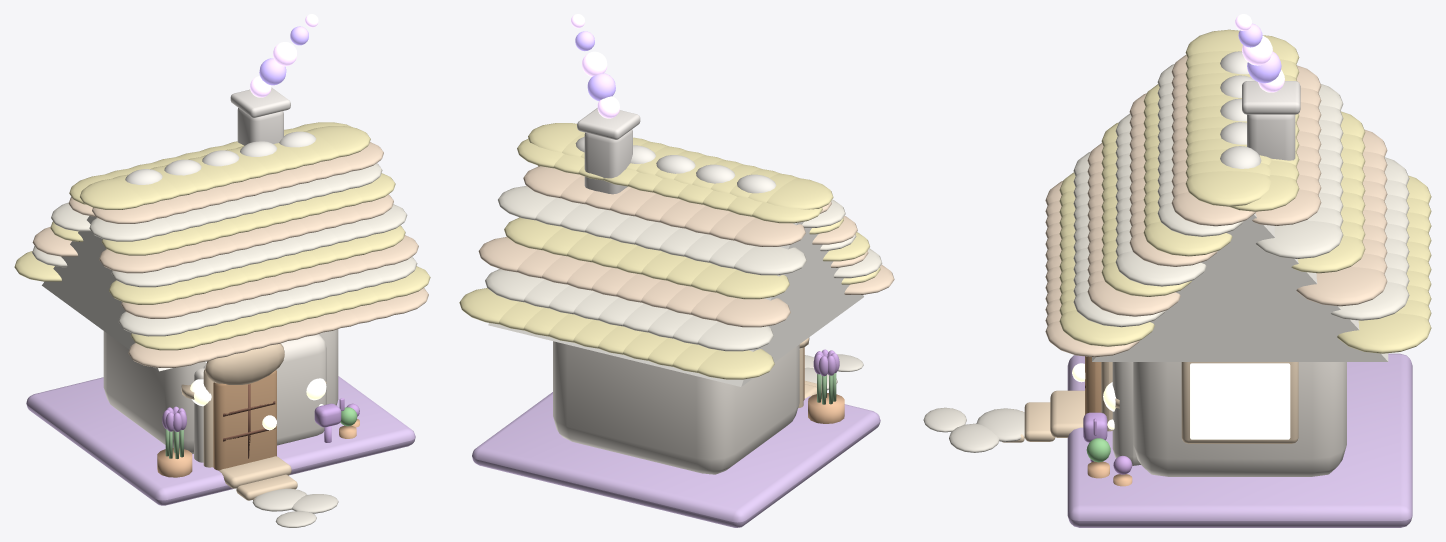
Rendered from cozy_house_small_A.glb.
3 views of the same model, side by side, from view 1: azimuth 30°, elevation 25°; view 2: azimuth 150°, elevation 25°; view 3: azimuth 270°, elevation 25° (orthographic). The views are drawn at different scales.
Visible parts, largest first — view 1: Base, Body, Door, RoofSolid, Front, DArch, FF10_0, Chim, S1, FF0_0, FF2_0, FF10_12 (+36 smaller); view 2: Body, Base, RoofSolid, Chim, BB0_0, BB2_0, BB4_0, BB1_0, BB3_0, BB5_0, FF10_0, BB0_9 (+66 smaller); view 3: Base, RoofSolid, Body, SG, BB0_9, BB2_9, FF10_12, BB4_9, SFr, Chim, Front, FF1_12 (+26 smaller).
Boxes of the visible parts, <box> form: Base: <box>26,376,415,505</box>; Body: <box>103,329,338,454</box>; Door: <box>213,370,276,470</box>; RoofSolid: <box>42,216,172,371</box>; Front: <box>203,334,326,445</box>; DArch: <box>205,343,284,384</box>; FF10_0: <box>80,178,143,209</box>; Chim: <box>237,108,283,145</box>; S1: <box>219,456,291,488</box>; FF0_0: <box>128,343,199,367</box>; FF2_0: <box>118,311,188,336</box>; FF10_12: <box>308,126,370,157</box>; Body: <box>553,341,799,474</box>; Base: <box>472,392,880,527</box>; RoofSolid: <box>488,221,863,386</box>; Chim: <box>584,129,632,194</box>; BB0_0: <box>697,349,774,379</box>; BB2_0: <box>715,298,790,327</box>; BB4_0: <box>734,246,806,275</box>; BB1_0: <box>697,322,773,351</box>; BB3_0: <box>716,270,789,299</box>; BB5_0: <box>734,218,805,246</box>; FF10_0: <box>766,178,833,209</box>; BB0_9: <box>459,288,518,324</box>; Base: <box>1067,353,1412,527</box>; RoofSolid: <box>1092,213,1388,361</box>; Body: <box>1133,362,1346,476</box>; SG: <box>1190,363,1290,439</box>; BB0_9: <box>1337,313,1431,353</box>; BB2_9: <box>1296,267,1387,306</box>; FF10_12: <box>1185,171,1271,206</box>; BB4_9: <box>1256,220,1343,258</box>; SFr: <box>1181,362,1298,443</box>; Chim: <box>1247,114,1295,160</box>; Front: <box>1112,362,1140,465</box>; FF1_12: <box>1059,310,1154,346</box>.
Bounding box in the file's own units: 2.53 × 3.16 × 2.95.
